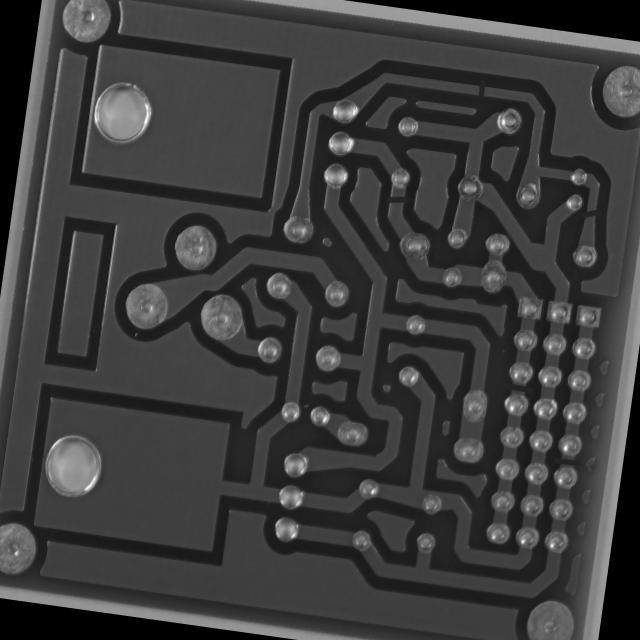open_circuit: (554, 454, 586, 474), (385, 190, 410, 210), (507, 380, 532, 400), (471, 78, 489, 101), (581, 206, 601, 223)
